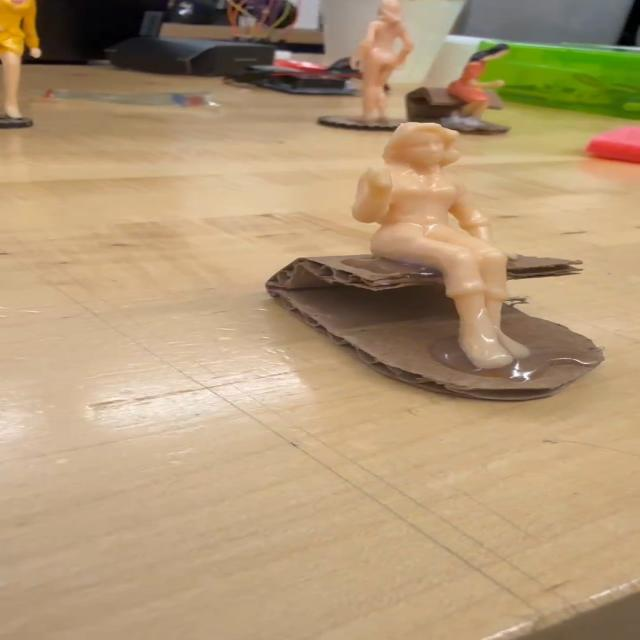Unauthorized: (342, 119, 558, 357)
